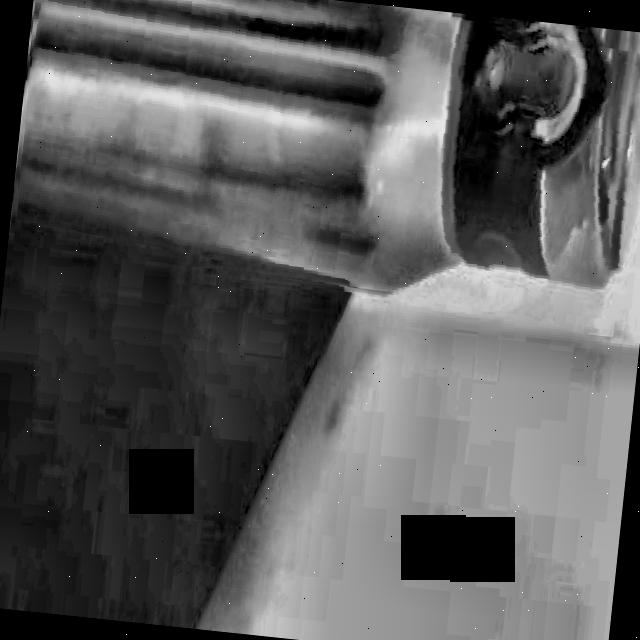bottle: (14, 0, 640, 291)
